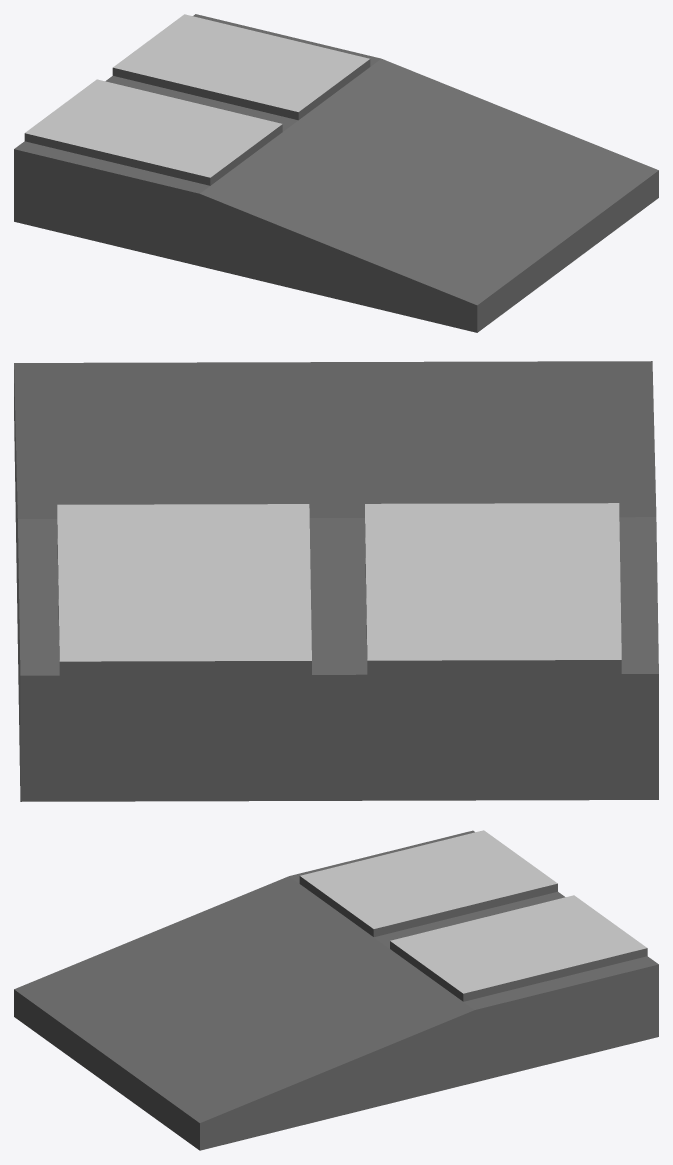
File: Mouse.fbx
3 views of the same model, one above another, from view 1: azimuth 30°, elevation 25°; view 2: azimuth 150°, elevation 25°; view 3: azimuth 270°, elevation 25° (orthographic). The views are drawn at different scales.
Visible parts, largest first — view 1: Mouse; view 2: Mouse; view 3: Mouse.
Boxes of the visible parts, x1,y1,x2,y2 form: Mouse: (14,14,658,332); Mouse: (14,361,658,801); Mouse: (14,830,658,1150).
Size of the model in its own units: 31.36 by 4.76 by 34.51.
